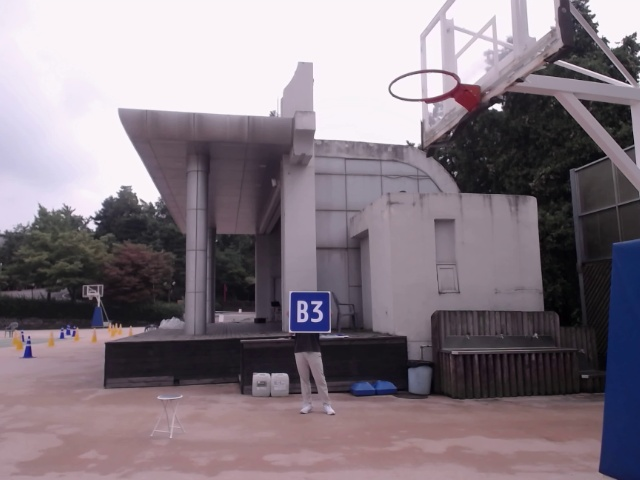delivery_b3: (289, 290, 331, 332)
